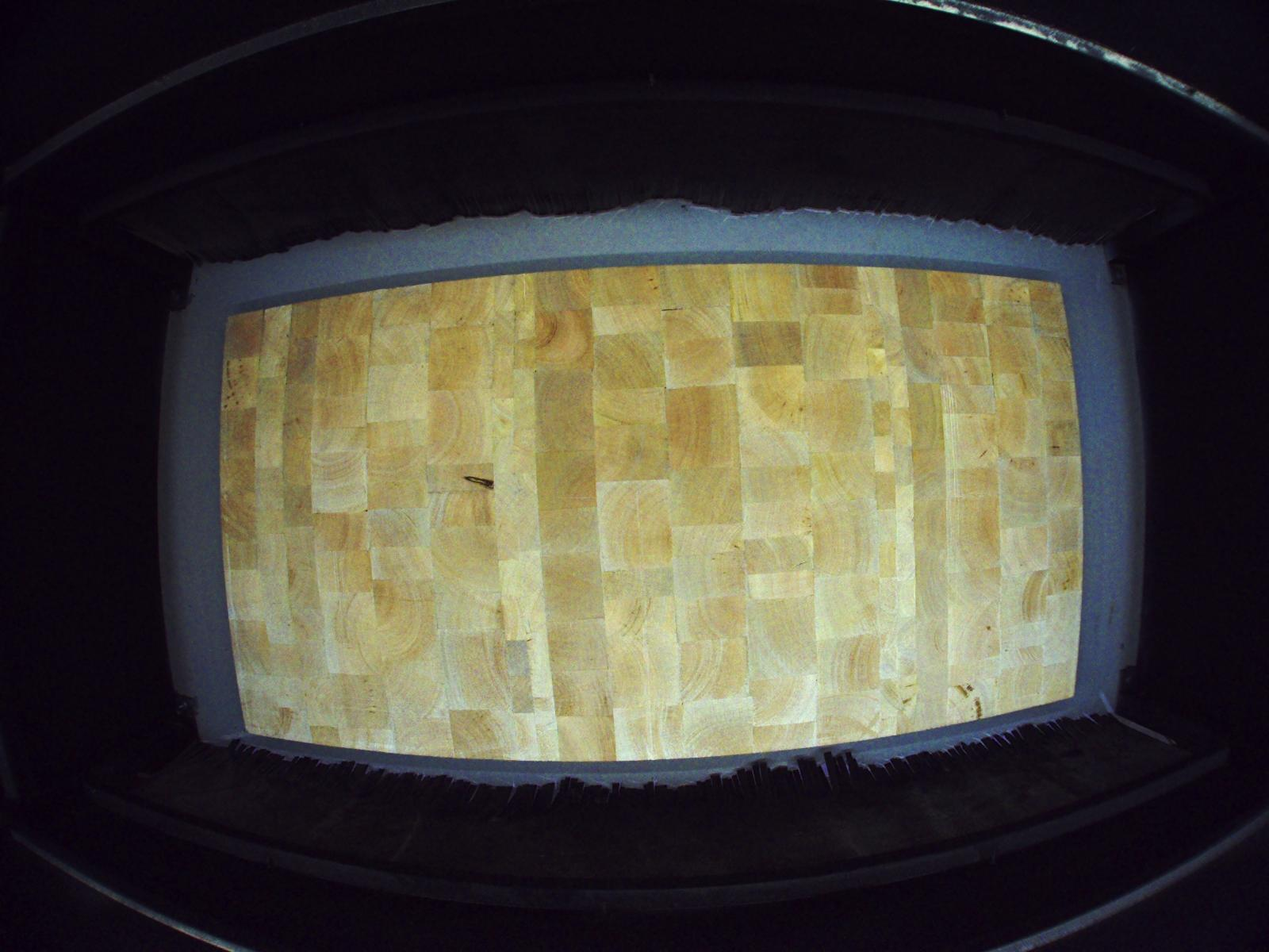nudillo: (462, 474, 494, 491)
